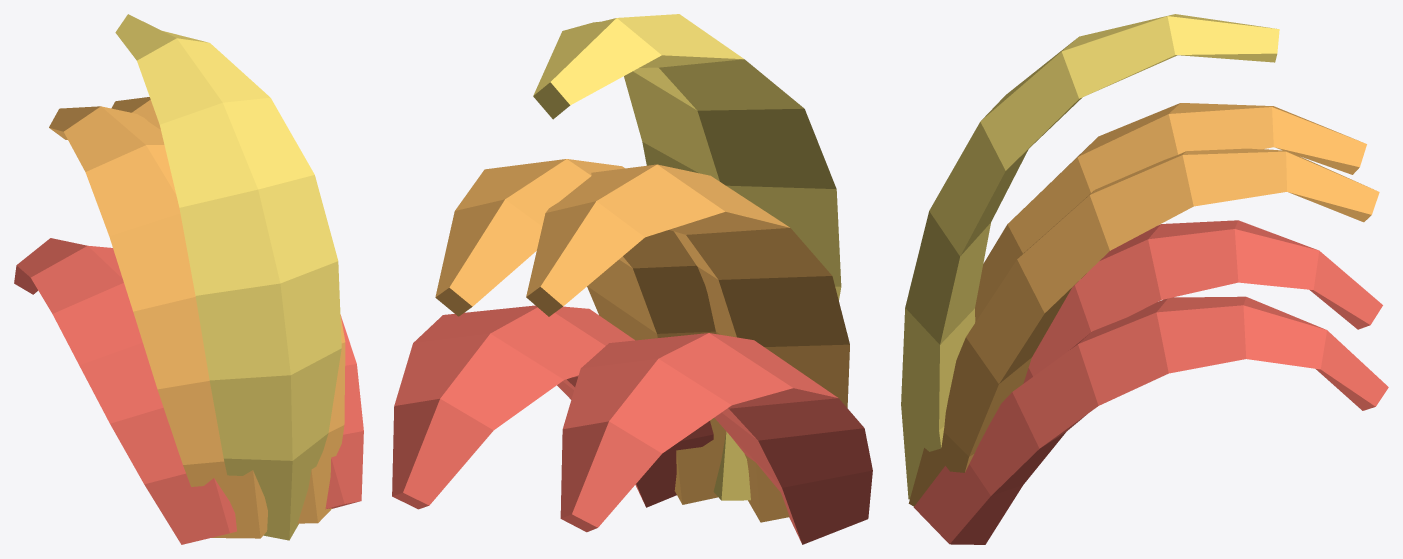
The model's file is rooster_tail.glb.
The picture shows the model from 3 angles, left to right: view 1: azimuth 30°, elevation 25°; view 2: azimuth 150°, elevation 25°; view 3: azimuth 270°, elevation 25°; orthographic projection. The views are drawn at different scales.
Parts seen in each view (by area): view 1: Tail; view 2: Tail; view 3: Tail.
Part boxes in pixels (x1,y1,x2,y2): Tail: (14, 14, 363, 544); Tail: (392, 14, 872, 544); Tail: (901, 14, 1388, 544).
Bounding box in the file's own units: 0.3173 × 0.5023 × 0.4472.
